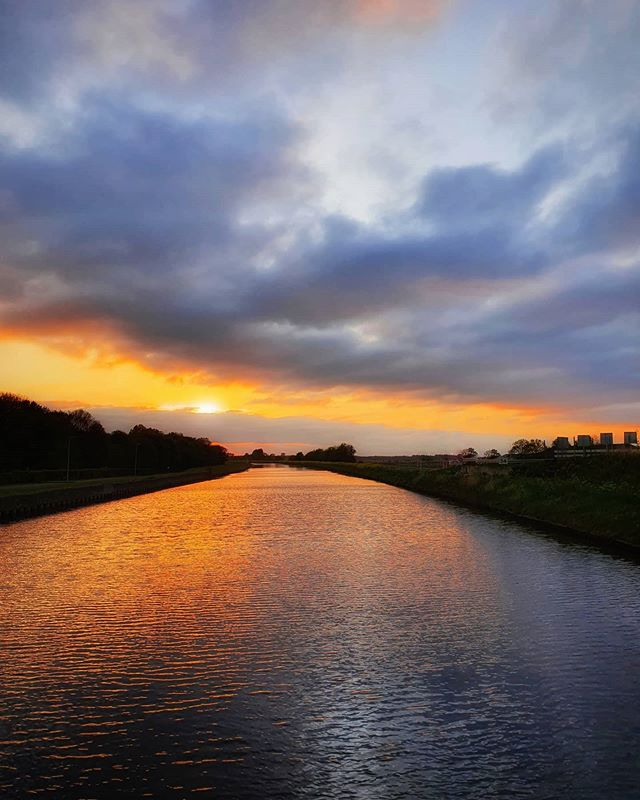river: (1, 469, 610, 800)
sky: (1, 1, 631, 436)
